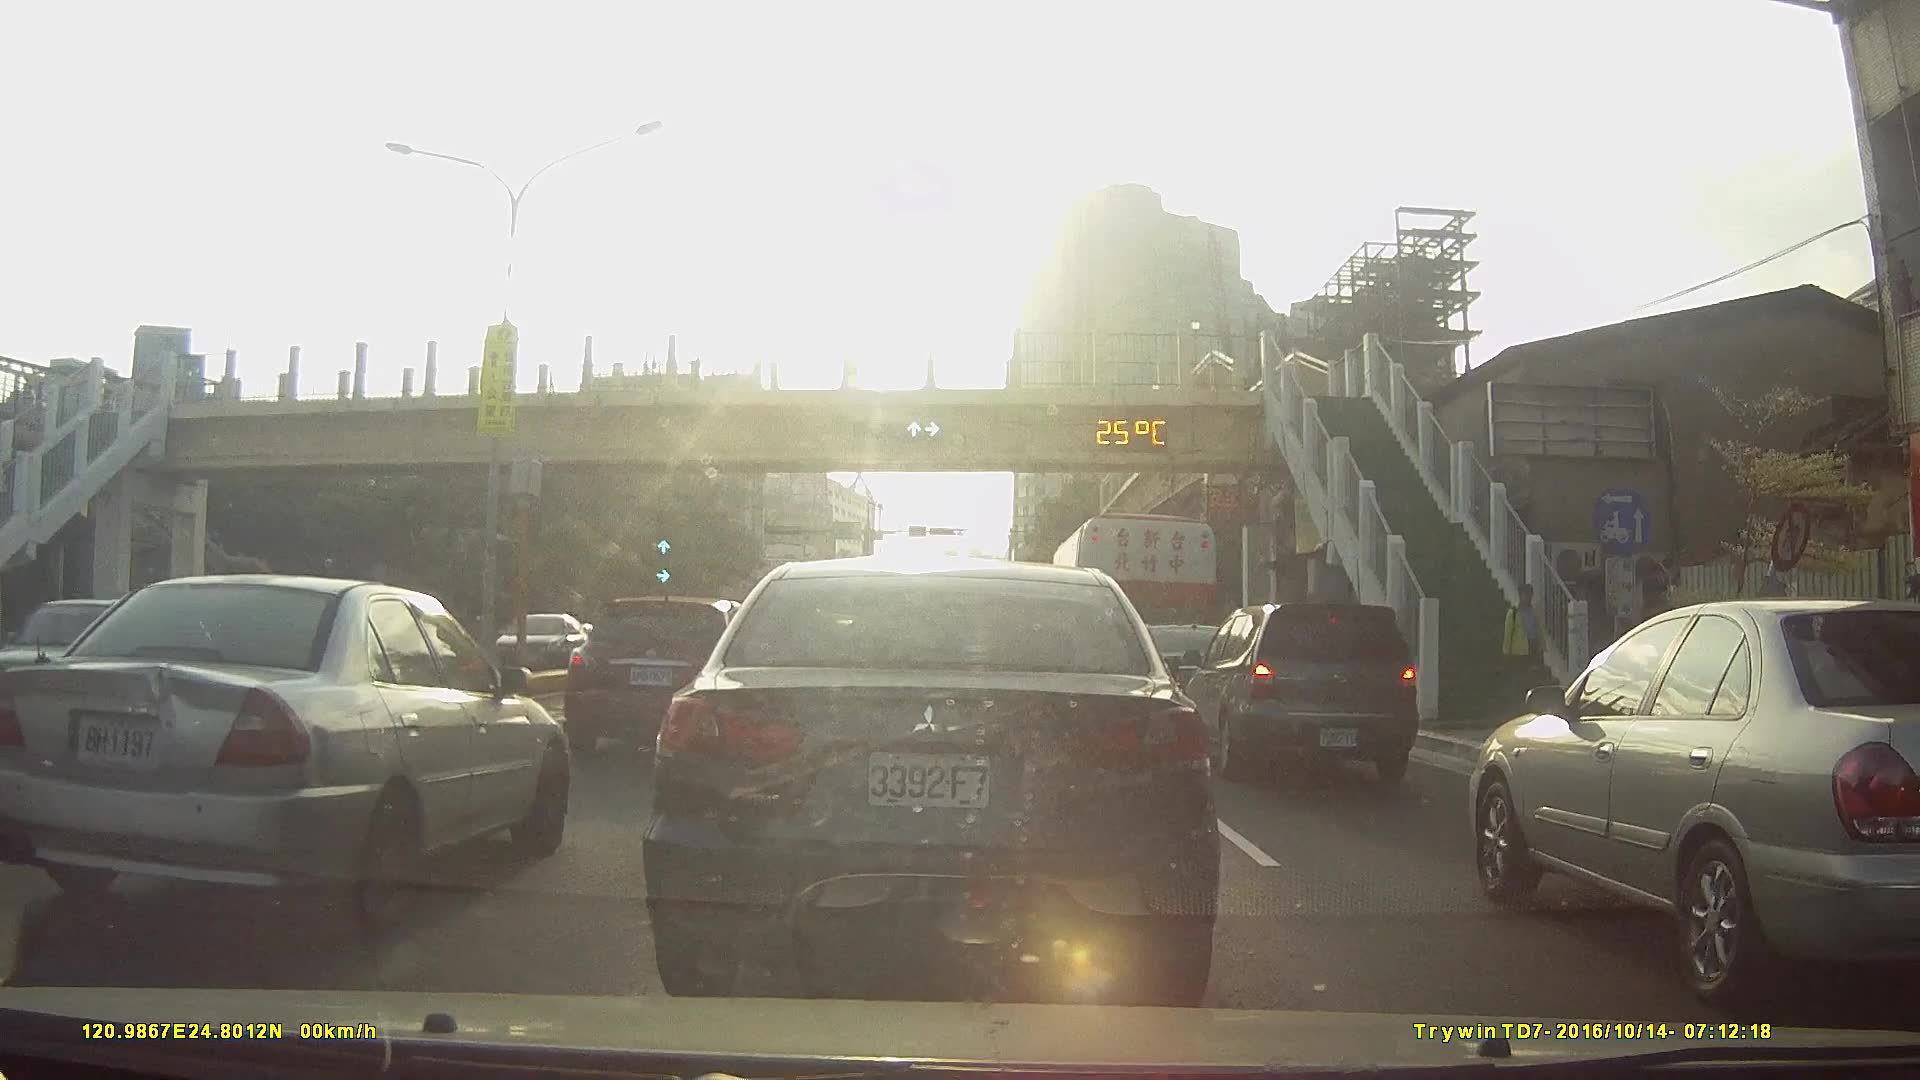pedestrian: (1502, 587, 1550, 707)
vehicle: (648, 557, 1215, 1004), (0, 573, 580, 923), (1460, 595, 1920, 995), (1179, 600, 1431, 780), (566, 597, 773, 761), (1103, 615, 1257, 725), (25, 593, 153, 716), (499, 610, 614, 674)
